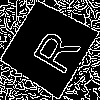R: (24, 22, 82, 77)
